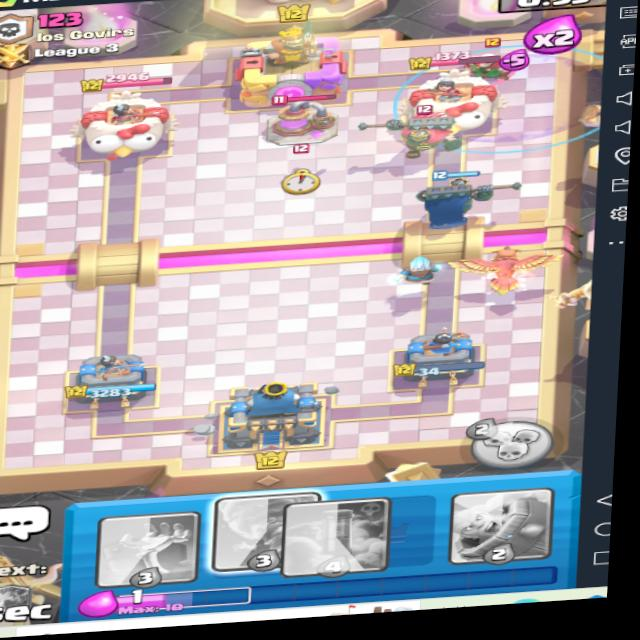elixir-collector: (257, 91, 345, 146)
magic-archer: (442, 44, 516, 87)
skeleton-king: (381, 106, 462, 163)
